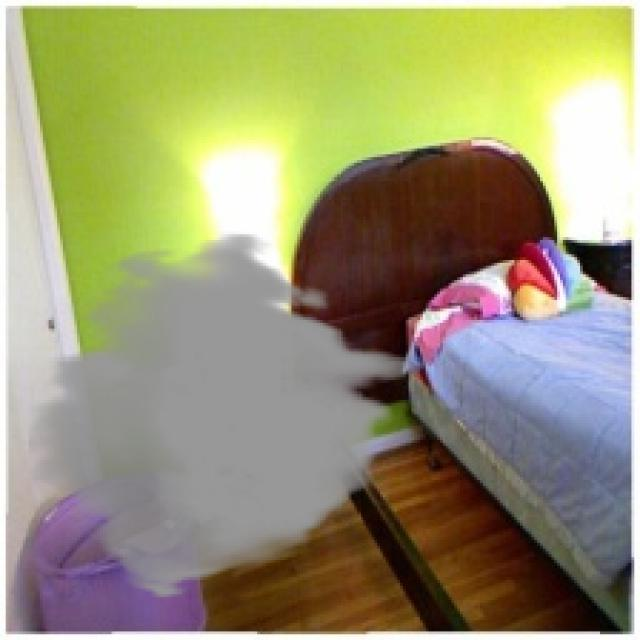Smoke: (28, 231, 406, 600)
